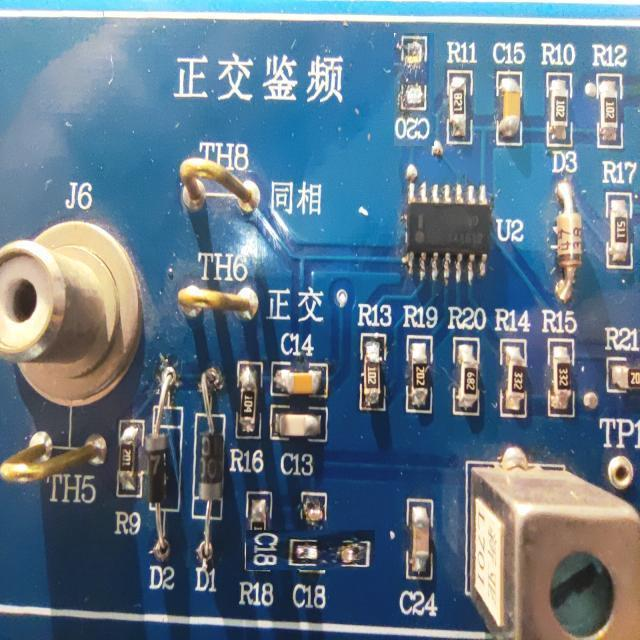miss_welding: (268, 508, 352, 593), (394, 33, 434, 146)
